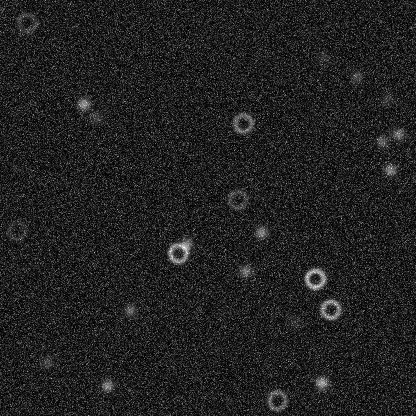Ring: (225, 187, 249, 211), (165, 241, 189, 265), (302, 266, 326, 290), (318, 297, 342, 321), (265, 388, 289, 412), (230, 111, 254, 135), (14, 10, 38, 34), (4, 218, 28, 242)
Spot: (373, 133, 389, 149), (382, 161, 398, 177), (75, 95, 91, 111), (348, 68, 364, 84), (39, 354, 55, 370), (121, 302, 137, 318), (313, 374, 329, 390), (285, 313, 301, 329), (178, 235, 194, 251), (237, 263, 253, 279), (88, 109, 104, 125), (253, 224, 269, 240), (314, 48, 330, 64), (99, 377, 115, 393), (379, 90, 395, 106), (390, 126, 406, 142)
